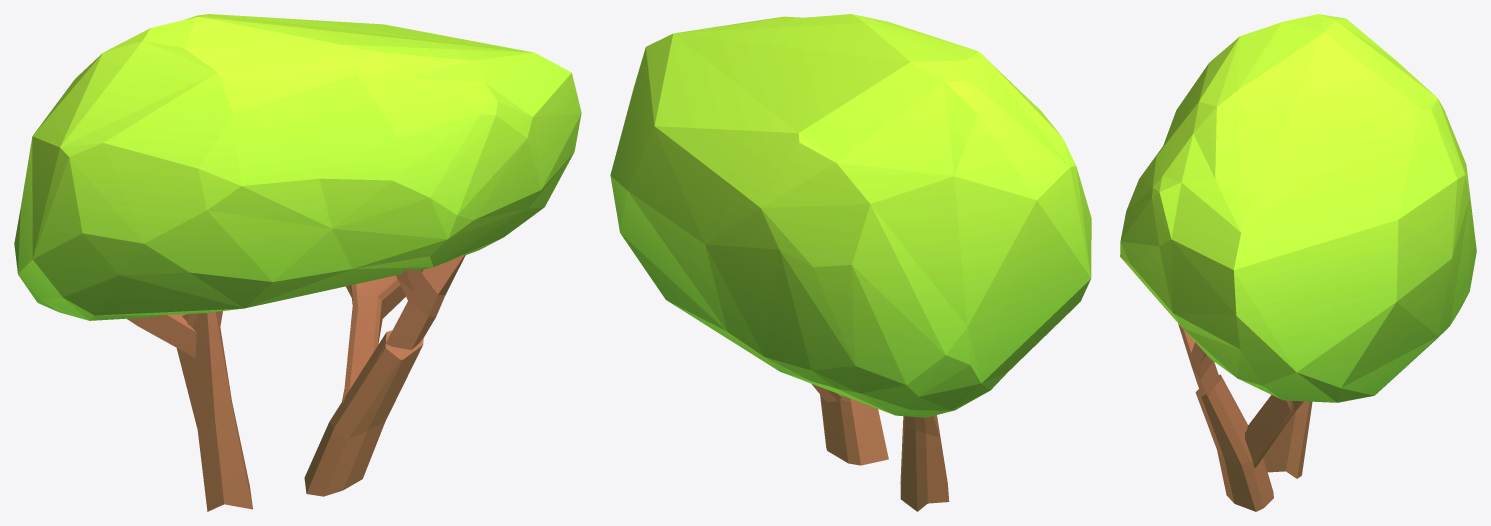
File: asia-bush.glb
3 views of the same model, side by side, from view 1: azimuth 30°, elevation 25°; view 2: azimuth 150°, elevation 25°; view 3: azimuth 270°, elevation 25° (orthographic). The views are drawn at different scales.
Parts seen in each view (by area): view 1: Bush1; view 2: Bush1; view 3: Bush1.
Boxes of the visible parts, x1=… form: Bush1: x1=14, y1=14, x2=581, y2=511; Bush1: x1=610, y1=14, x2=1091, y2=511; Bush1: x1=1120, y1=14, x2=1476, y2=511.
Bounding box in the file's own units: 3.25 × 2.9 × 2.13.
Materials: 1 (1 with a texture image).
